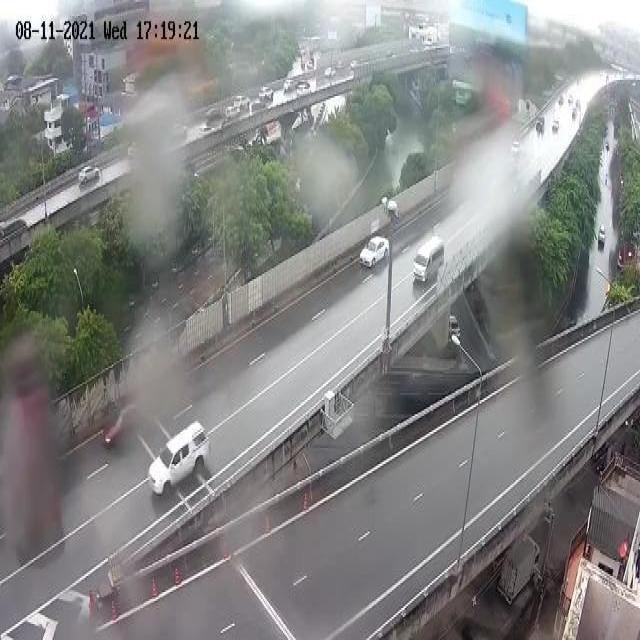Car: (147, 419, 209, 495), (104, 392, 146, 448), (359, 237, 389, 268), (78, 165, 100, 184), (449, 314, 461, 340), (259, 85, 274, 101), (233, 96, 250, 110), (205, 108, 222, 122), (225, 106, 239, 120), (598, 225, 606, 248), (296, 83, 311, 94), (283, 79, 295, 92), (511, 141, 520, 155), (325, 67, 336, 78), (536, 116, 545, 129), (552, 118, 560, 130)
Truck: (497, 534, 541, 606)
Van: (413, 237, 445, 281)
